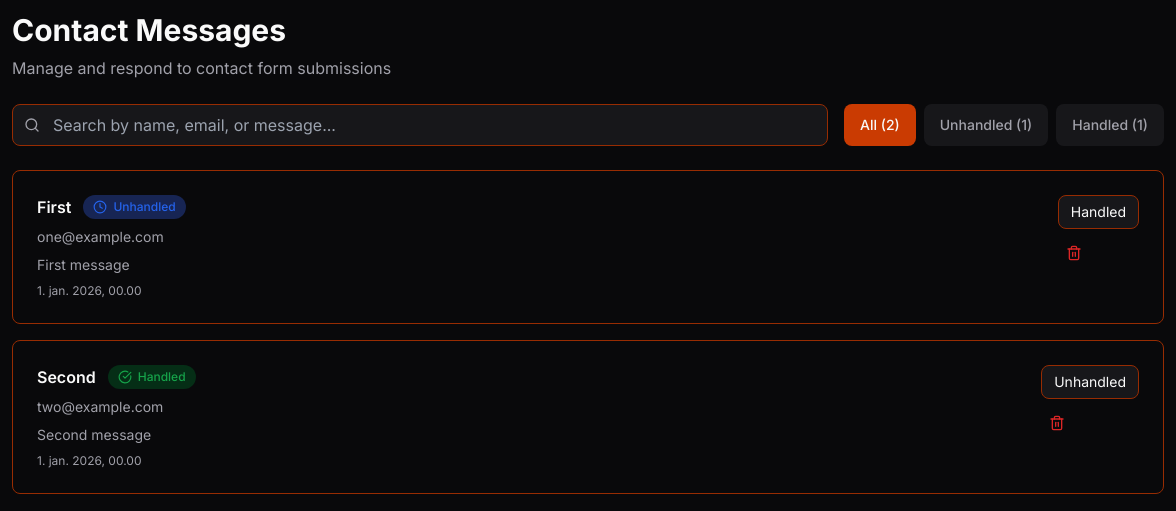
Test: filters locally while keeping accurate total and status counts
The image size is (1176, 511).
Expected: the heading "First" is shown, [37, 195, 71, 219]
Click the button "Handled (1)": (1110, 125) [1056, 104, 1164, 146]
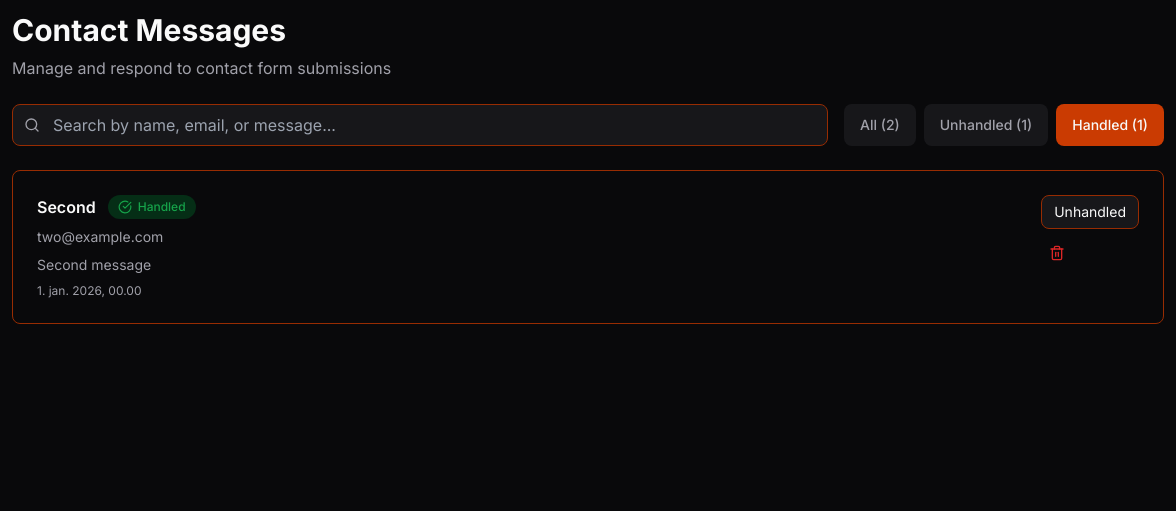
Expected: the heading "Second" is shown, [37, 195, 96, 219]
Expected: the button "First" is gone
